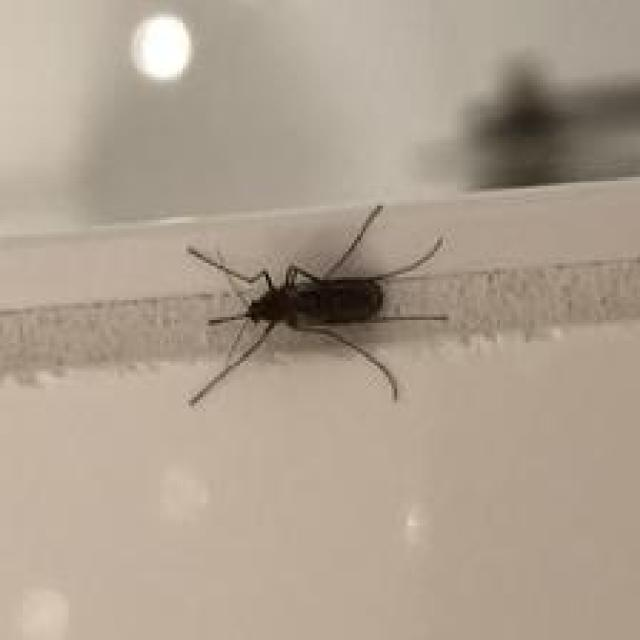Culex: (183, 203, 448, 408)
